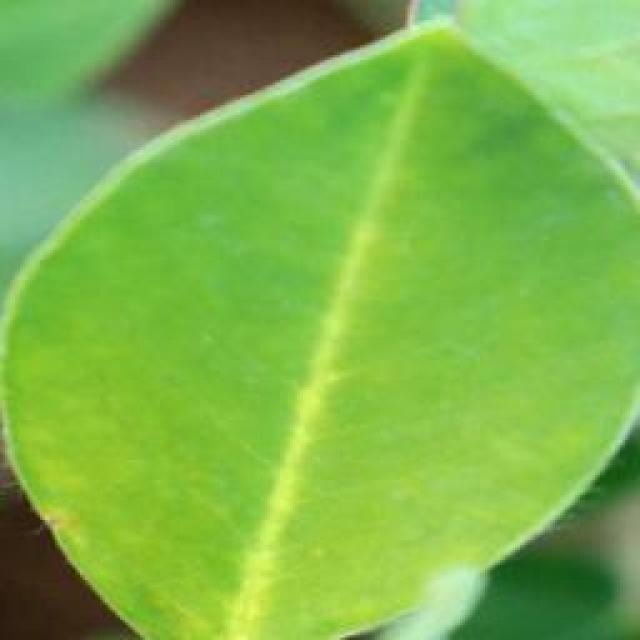Yellow_and_black_sigatoka: (0, 21, 640, 640)
